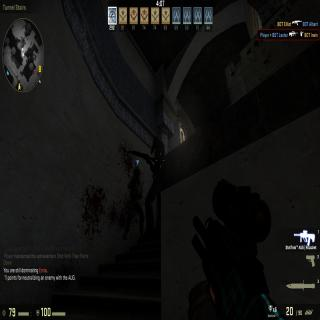CT-Body: (126, 166, 144, 240)
CT-Head: (132, 166, 142, 179)
T-Body: (146, 134, 166, 240)
T-Head: (149, 135, 162, 150)
